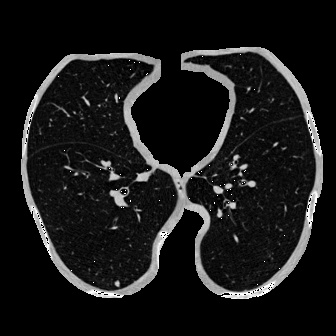PN: (114, 281, 120, 287)
